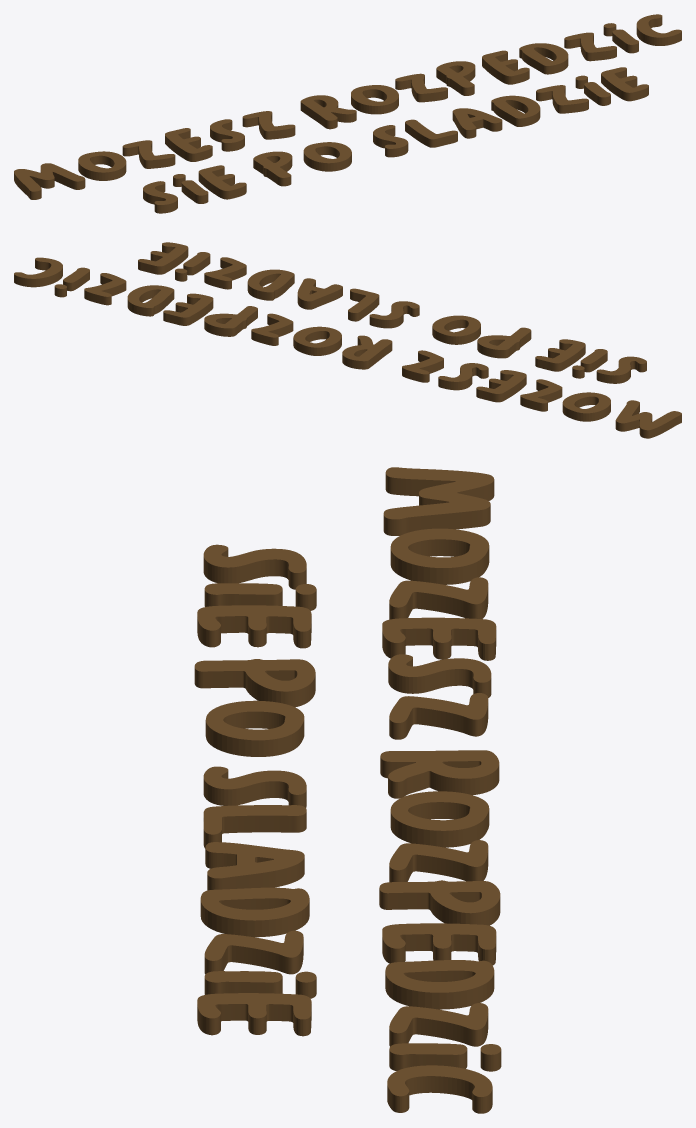
Rendered from slizg.fbx.
3 views of the same model, one above another, from view 1: azimuth 30°, elevation 25°; view 2: azimuth 150°, elevation 25°; view 3: azimuth 270°, elevation 25° (orthographic). The views are drawn at different scales.
Parts seen in each view (by area): view 1: slizg; view 2: slizg; view 3: slizg.
Part boxes in pixels (x1,y1,x2,y2): slizg: (14,14,681,213); slizg: (14,242,681,438); slizg: (194,467,501,1113).
Bounding box in the file's own units: 807 × 10 × 166.
